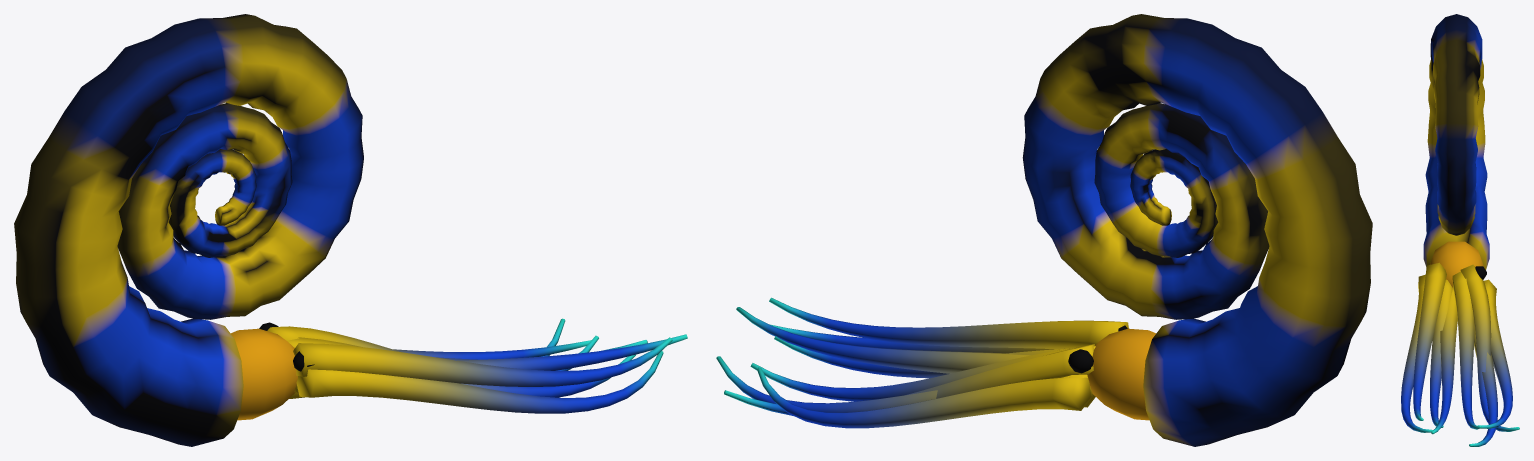
File: amonita_rana.fbx
3 views of the same model, side by side, from view 1: azimuth 30°, elevation 25°; view 2: azimuth 150°, elevation 25°; view 3: azimuth 270°, elevation 25° (orthographic). The views are drawn at different scales.
Visible parts, largest first — view 1: amonita_rana; view 2: amonita_rana; view 3: amonita_rana.
Boxes of the visible parts, box(x1,y1,x2,y2) form: amonita_rana: box(14, 14, 687, 446); amonita_rana: box(716, 14, 1372, 446); amonita_rana: box(1401, 14, 1519, 446).
Bounding box in the file's own units: 120 × 30.16 × 81.27.
